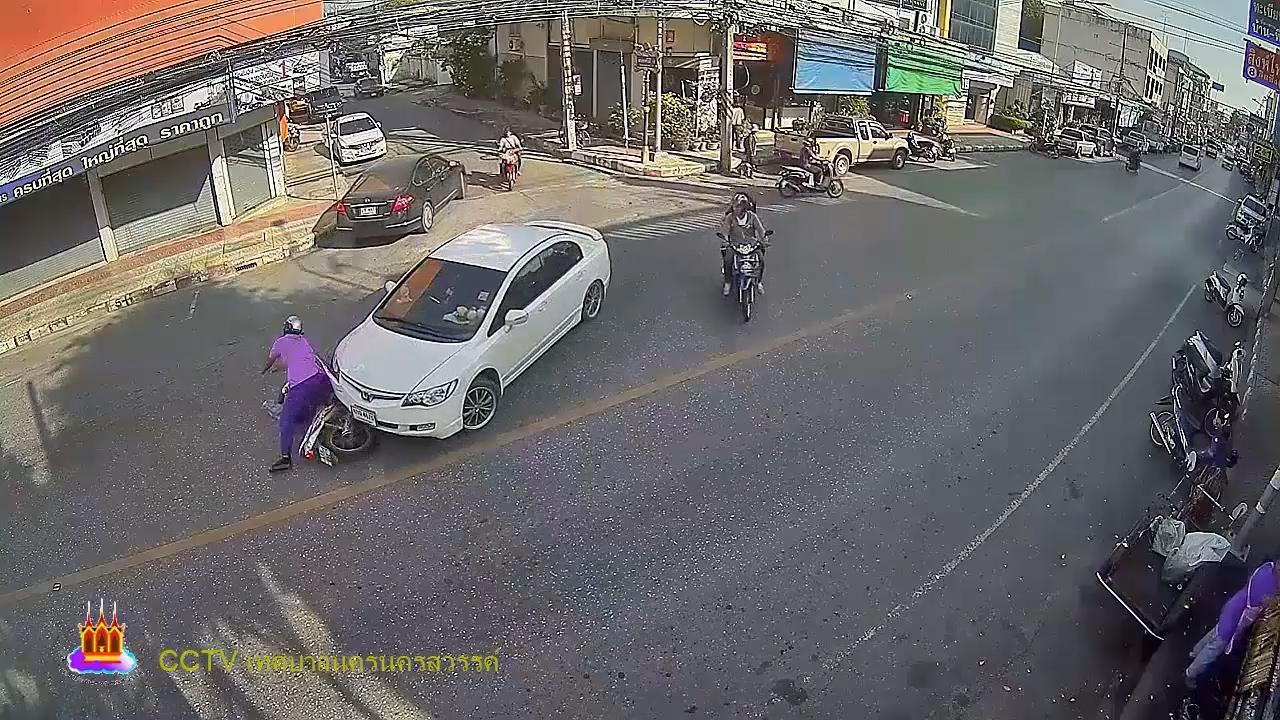accident: (260, 313, 331, 476)
